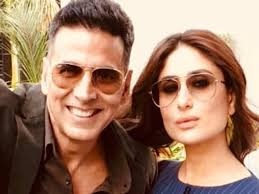Bad: (1, 1, 259, 194)
